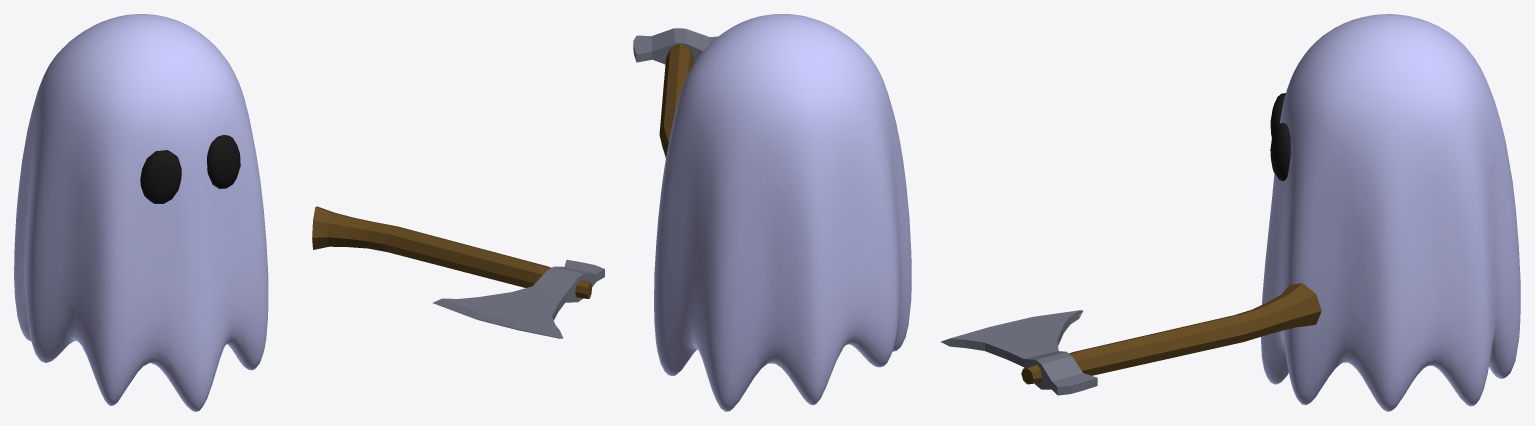
File: ghostAxe3.fbx
3 views of the same model, side by side, from view 1: azimuth 30°, elevation 25°; view 2: azimuth 150°, elevation 25°; view 3: azimuth 270°, elevation 25° (orthographic). The views are drawn at different scales.
Parts seen in each view (by area): view 1: Ghost, Axe; view 2: Ghost, Axe; view 3: Ghost, Axe.
Part boxes in pixels (box(x1,y1,x2,y2)): Ghost: box(14, 14, 268, 411); Axe: box(312, 206, 604, 338); Ghost: box(654, 14, 911, 411); Axe: box(633, 28, 718, 158); Ghost: box(1261, 14, 1520, 411); Axe: box(940, 283, 1321, 395).
Bounding box in the file's own units: 174 × 139 × 203.
